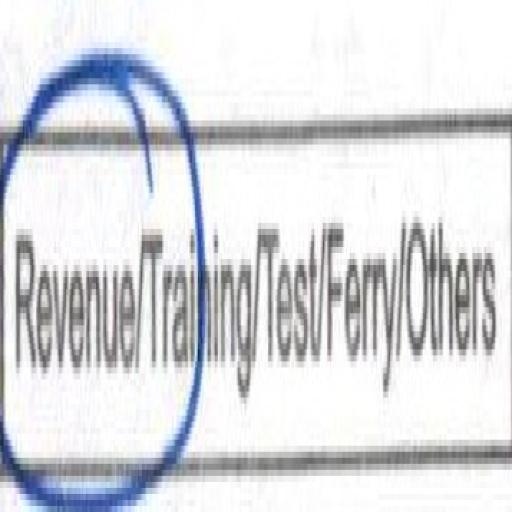check: (0, 91, 141, 512)
